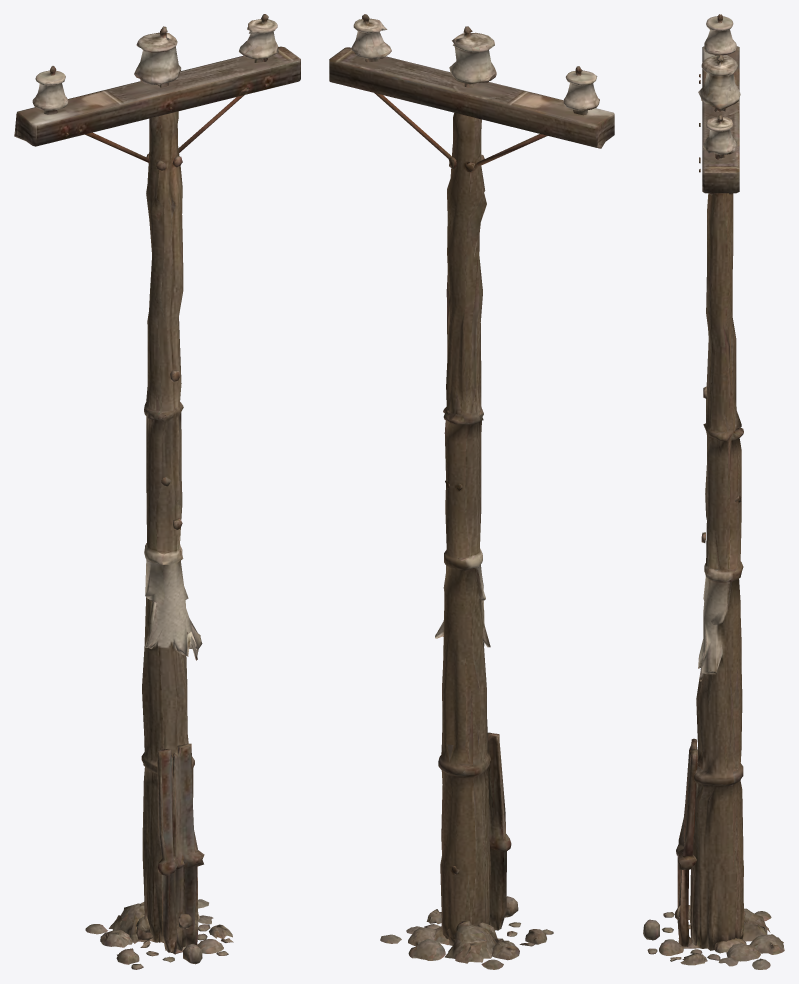
File: utility_pole.glb
3 views of the same model, side by side, from view 1: azimuth 30°, elevation 25°; view 2: azimuth 150°, elevation 25°; view 3: azimuth 270°, elevation 25° (orthographic). The views are drawn at different scales.
Size of the model in its own units: 0.168 by 0.5396 by 0.0781.
Materials: 1 (1 with a texture image).
